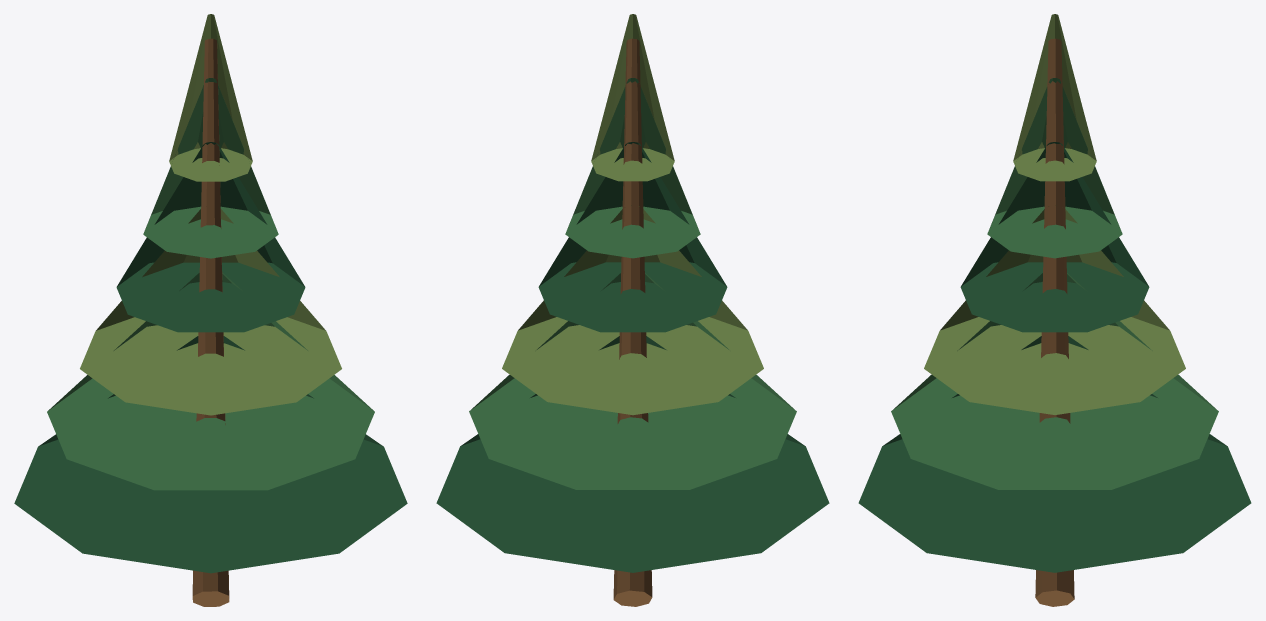
Rendered from vegetation-pine-04-irregular.glb.
The picture shows the model from 3 angles, left to right: view 1: azimuth 30°, elevation 25°; view 2: azimuth 150°, elevation 25°; view 3: azimuth 270°, elevation 25°; orthographic projection.
Visible parts, largest first — view 1: vegetation-pine-04-irregular; view 2: vegetation-pine-04-irregular; view 3: vegetation-pine-04-irregular.
Part boxes in pixels (x1,y1,x2,y2): vegetation-pine-04-irregular: (14,14,407,606); vegetation-pine-04-irregular: (436,14,829,606); vegetation-pine-04-irregular: (858,14,1251,606).
Bounding box in the file's own units: 2.44 × 4.05 × 2.47.
